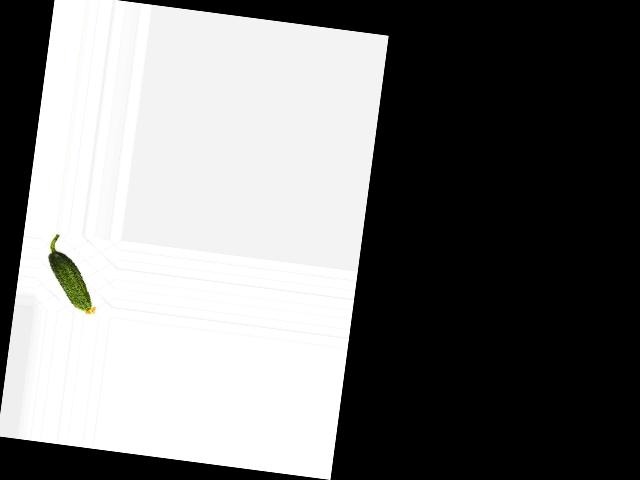cucumber: (41, 234, 105, 315)
